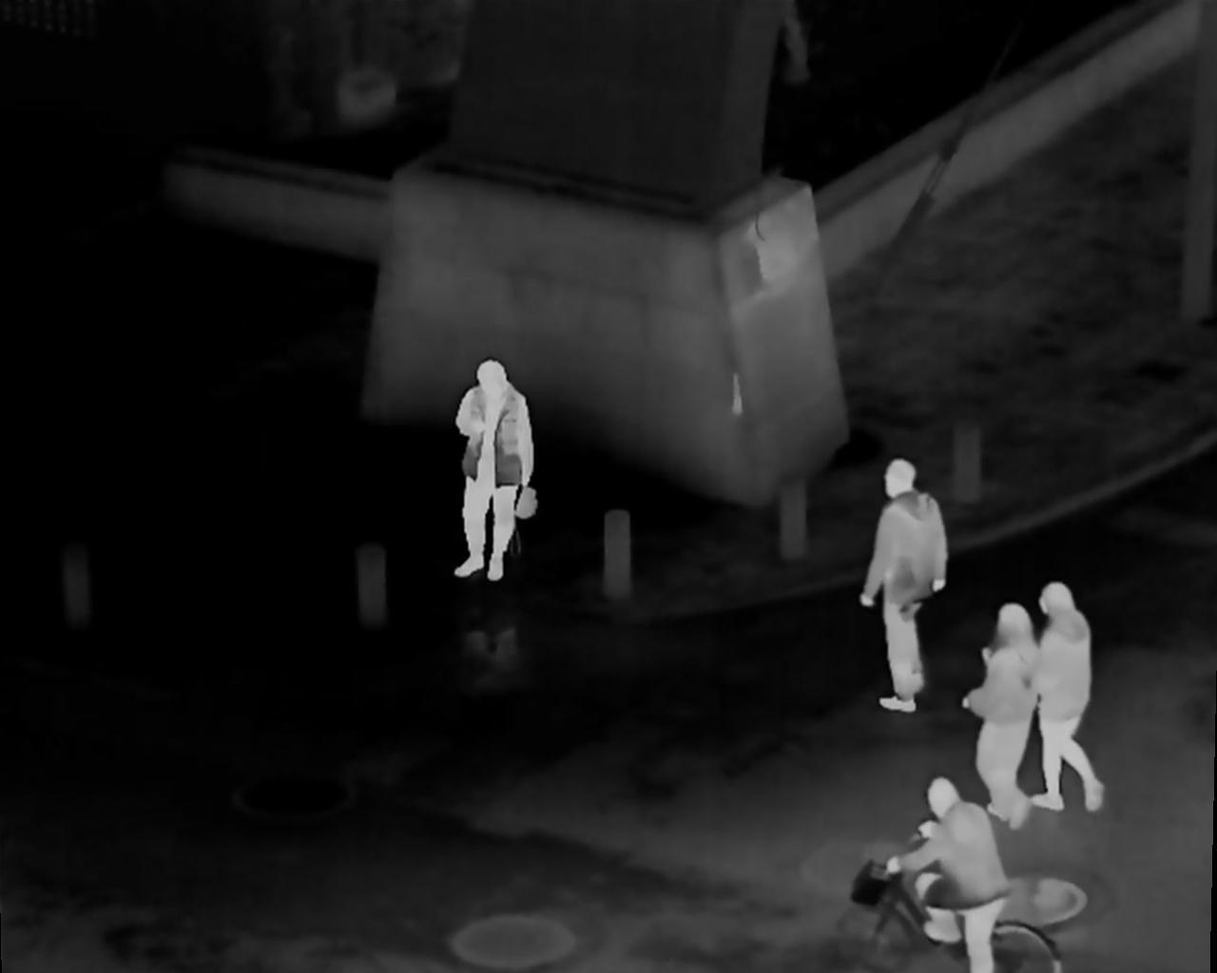person: (883, 775, 1005, 973), (864, 458, 943, 715), (450, 350, 532, 577), (1033, 583, 1105, 811), (976, 602, 1038, 814)
